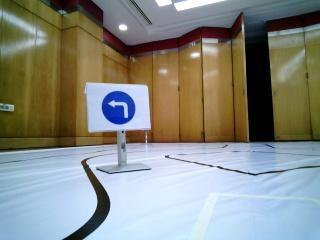left: (93, 86, 147, 127)
